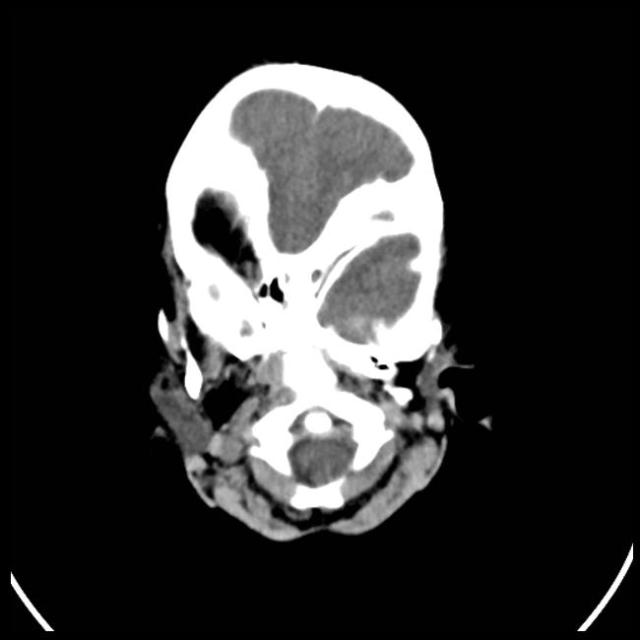lesion: (143, 57, 481, 545)
